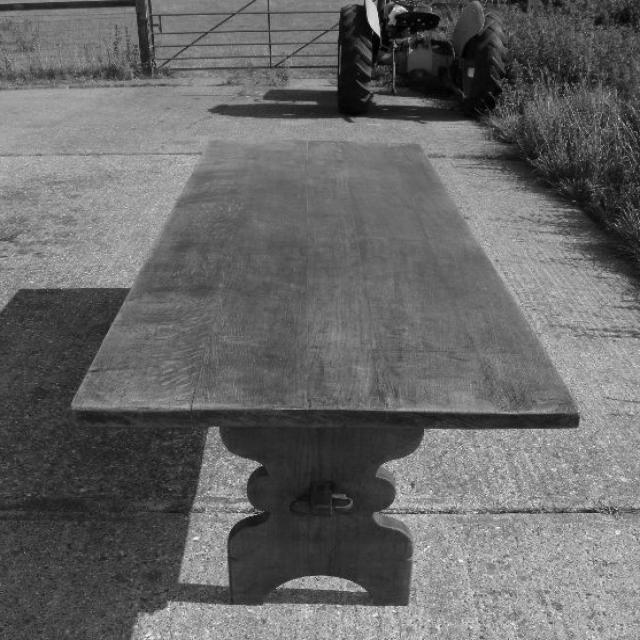table: (69, 144, 577, 606)
